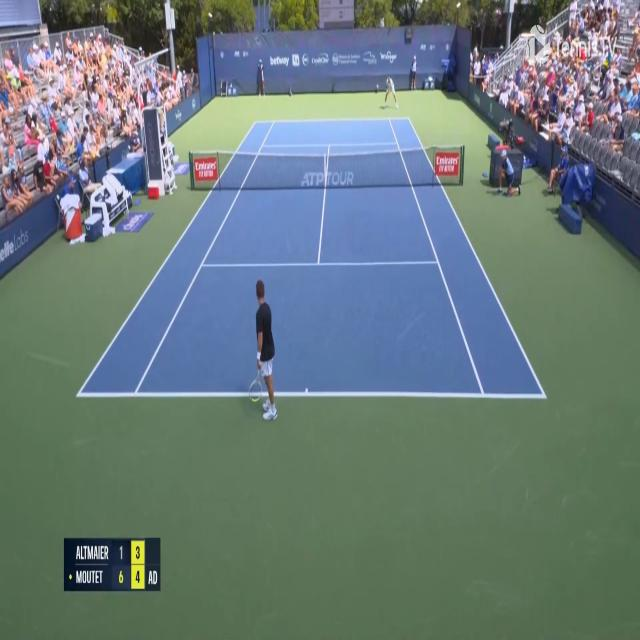tennis-player: (248, 276, 280, 425), (380, 69, 401, 115)
